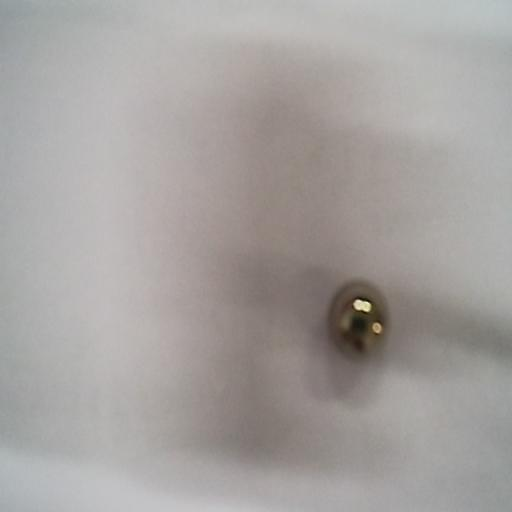steel-ball: (327, 269, 397, 367)
